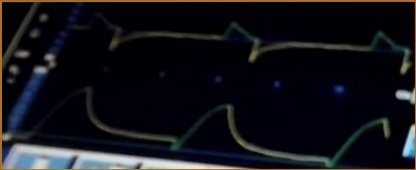Flow: (71, 12, 412, 75)
Leakage Volume: (17, 86, 389, 168)
